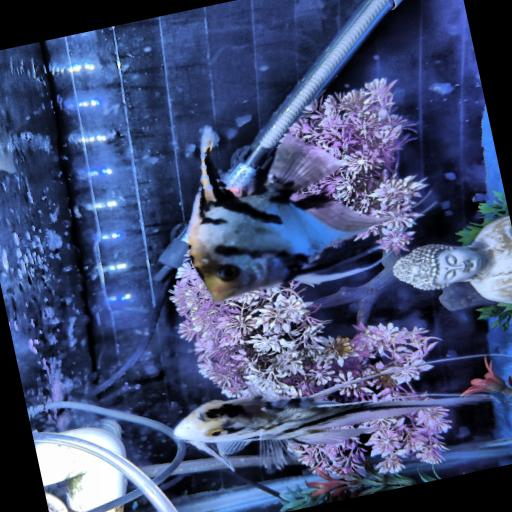Fish: (189, 127, 384, 301), (174, 368, 491, 469)
